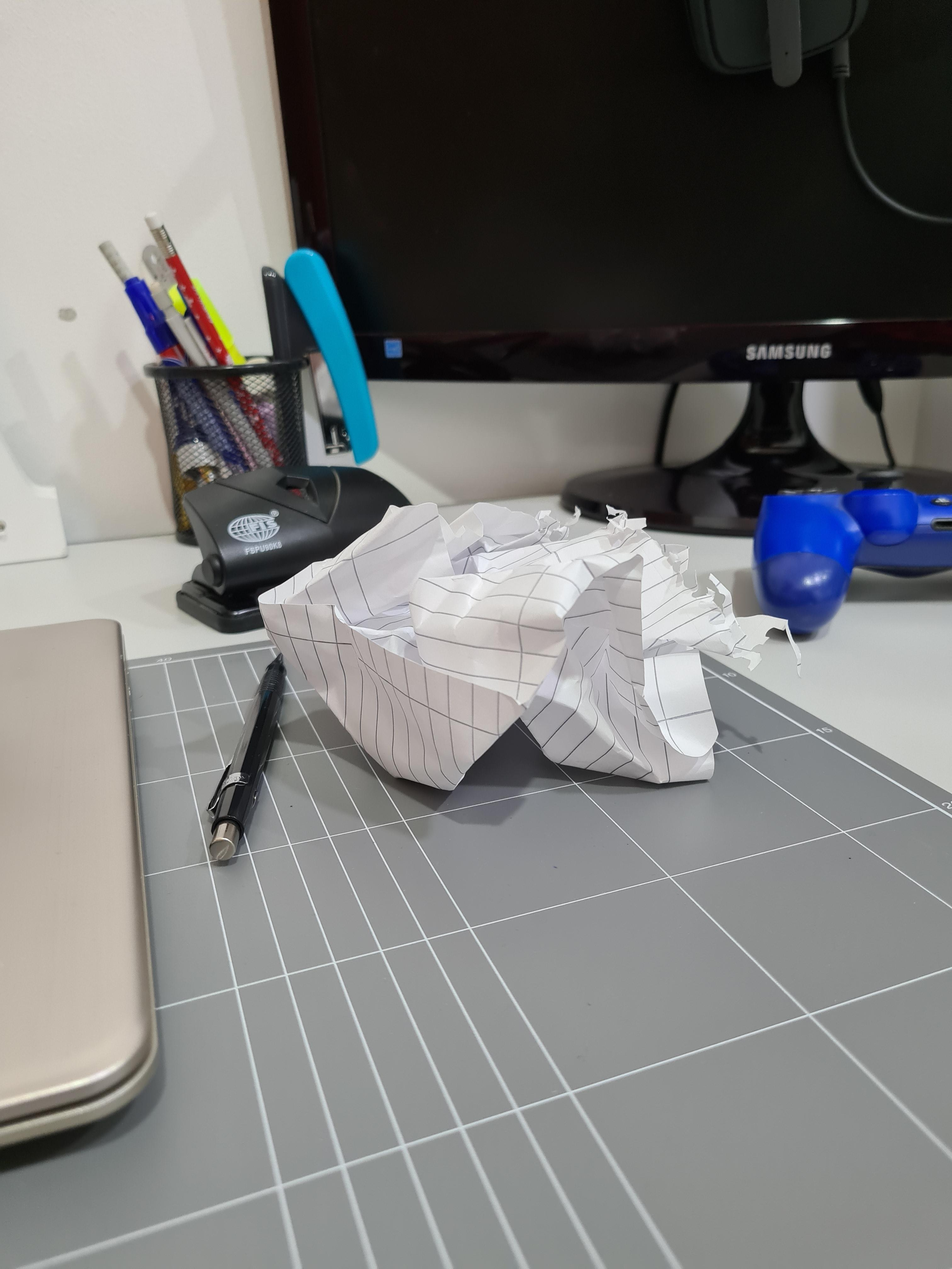paper: (259, 517, 766, 791)
